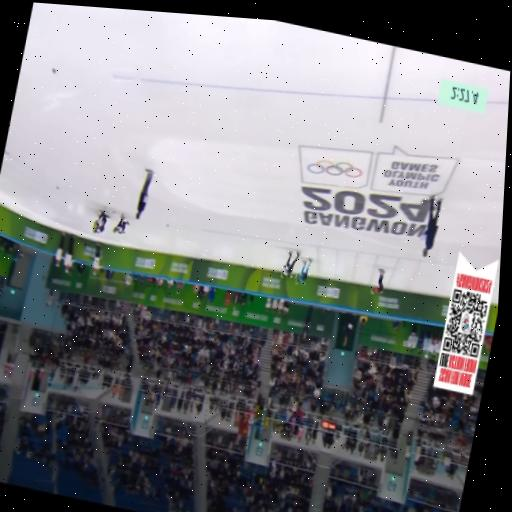Skater: (281, 250, 300, 277), (295, 259, 311, 284), (93, 209, 108, 232), (371, 268, 384, 293), (113, 213, 129, 233)
